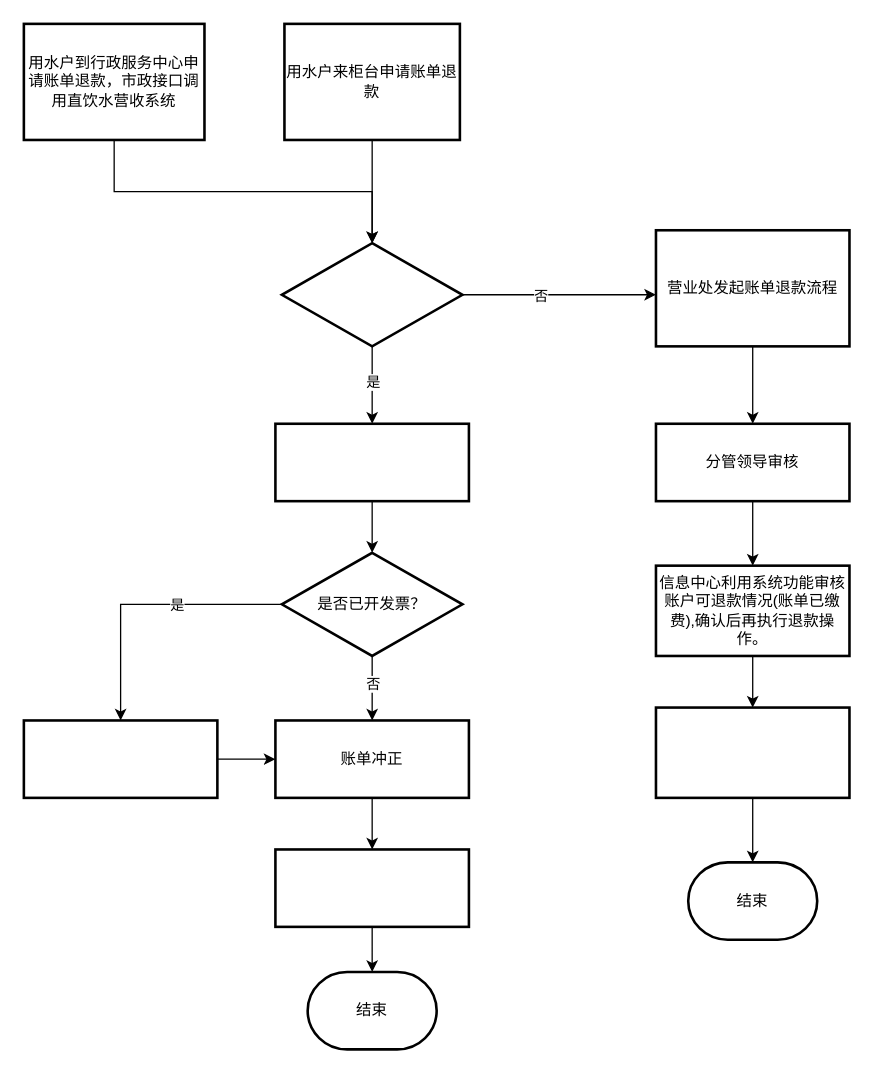
Some shapes in this 872 by 1072 pixel diagram are drawn without their labels. The centre of each missing label's shape, as x and y in pixels:
发票冲正: the point at 120,759
是否是当天？: the point at 371,294
用水户退款，原路退回: the point at 371,888
由进行该账单销账的收费员发起退款: the point at 371,462
财务把钱退到用户银行卡，如果是微信或支付宝的缴费，会原路退回: the point at 752,752
